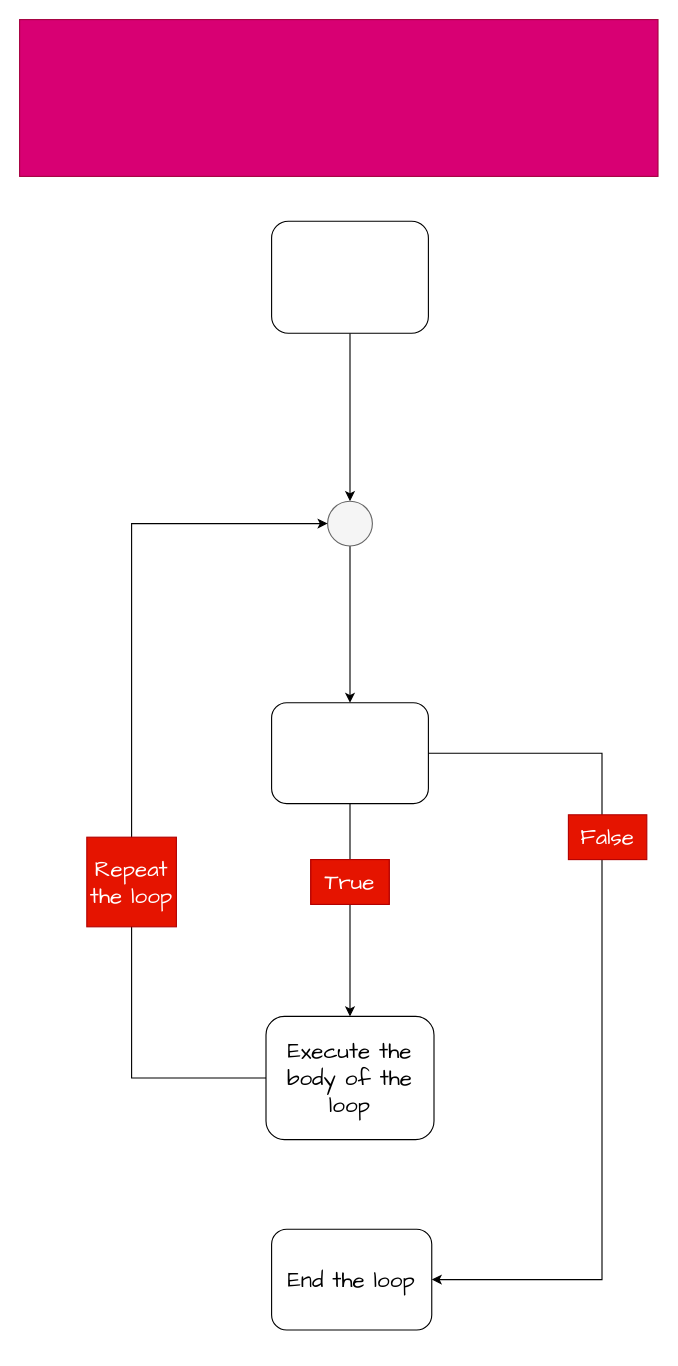
Some shapes in this 678 by 1366 pixel diagram are drawn without their labels. The shapes that lost their labels are listed below. From the top down, each one's centre as x and y in pixels, then its label:
At pixel 338 97: "This flowchart can be applicable for both for loop and while loop in java".
At pixel 349 276: "Entry of the loop".
At pixel 349 753: "If the condition is".
